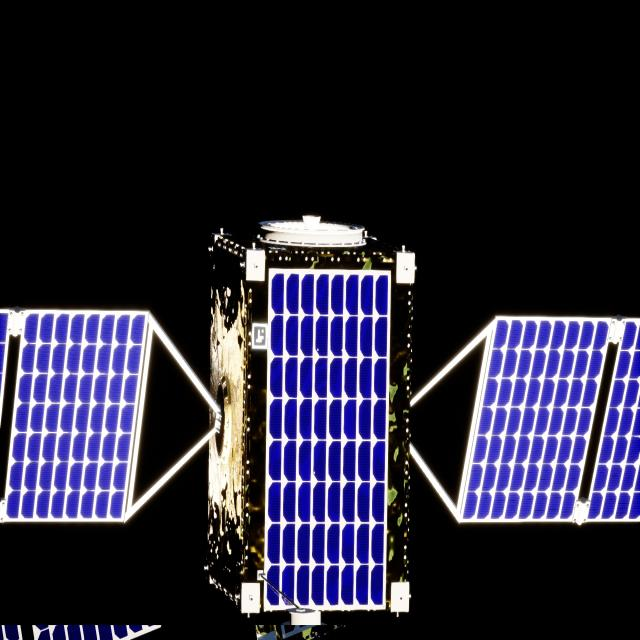satellite: (0, 213, 640, 618)
